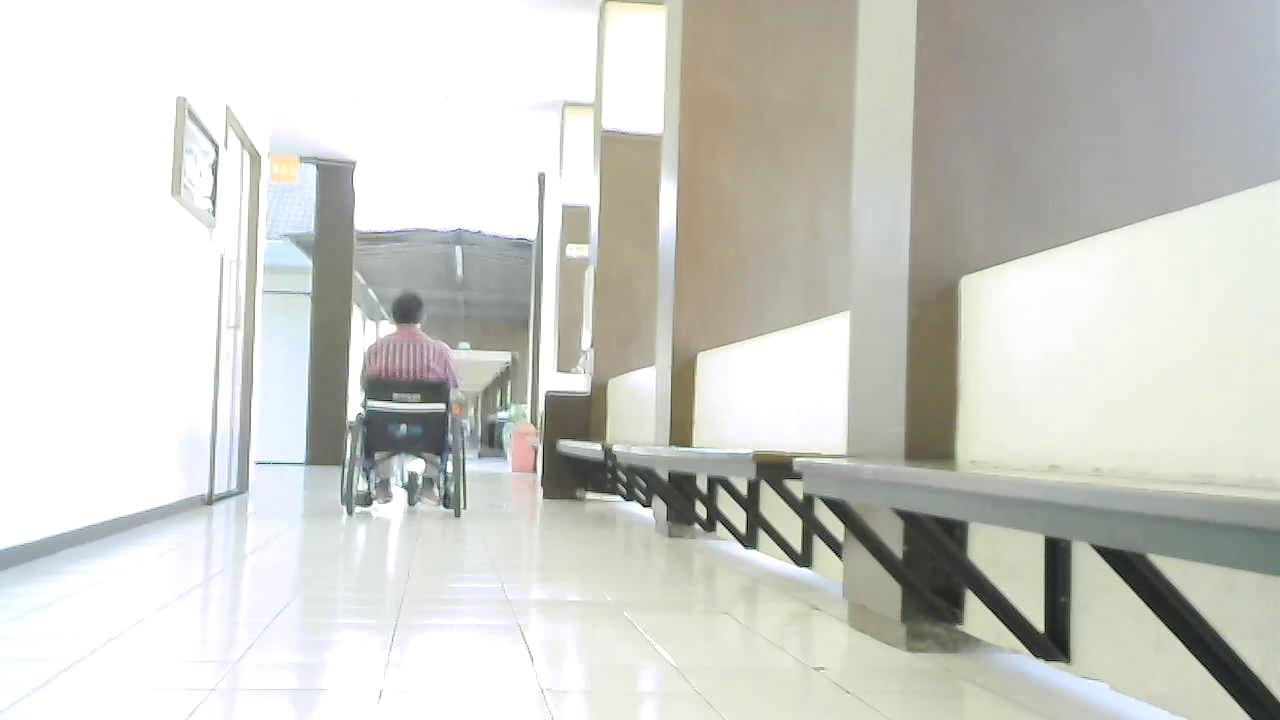person: (359, 289, 462, 508)
wheelchair: (332, 374, 474, 529)
